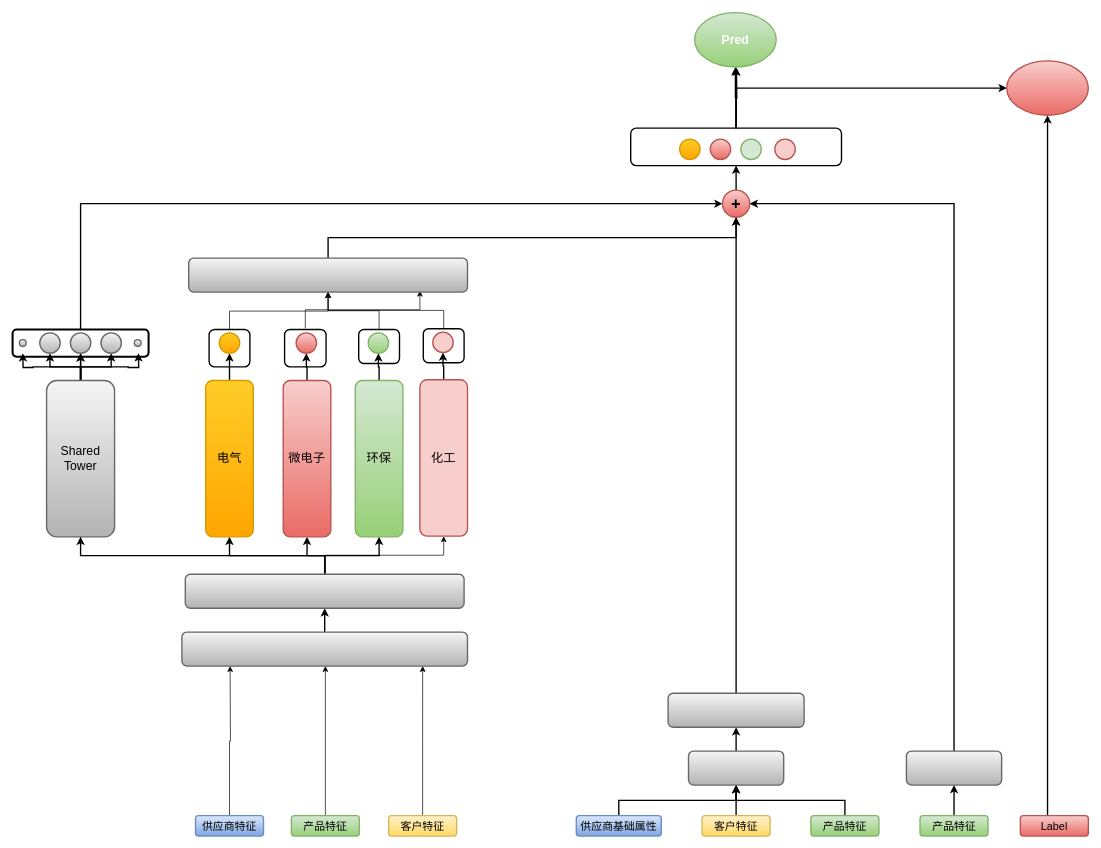
Image size: 1101x848. Some labels were removed from this diagram. Each missing label, with the centre of its shape:
Concat Layer: pixel 328 274
Emb Layer: pixel 324 591
FC Layer: pixel 735 710
FM: pixel 735 767
FwFFM Layer: pixel 324 648
Loss: pixel 1047 88
LR: pixel 953 767
